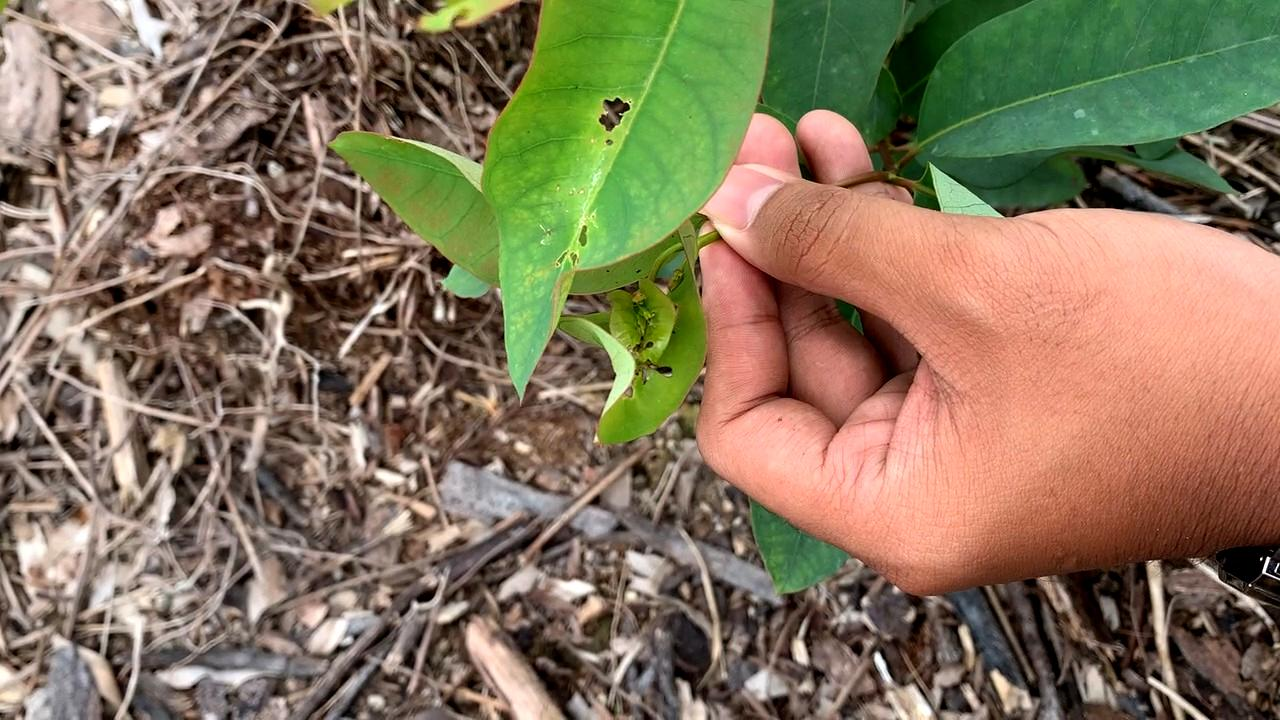Leaf Roller - Leaf: (595, 279, 714, 425)
